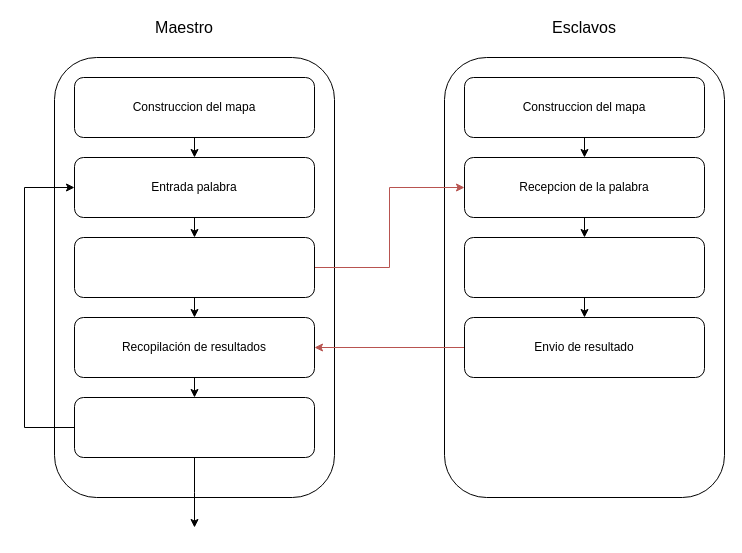
Some shapes in this 742 by 553 pixel diagram are drawn without their labels. Here are the shapes that lost their labels. From the top down, the centre of each, then its label:
At point 194,267: "Entrega de la palabra".
At point 584,267: "Busqueda de la palabra en el mapa".
At point 194,427: "Salida de la respuesta".
